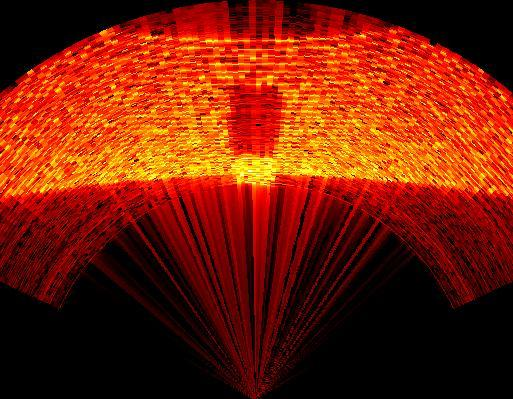box_crate: (228, 84, 286, 156)
